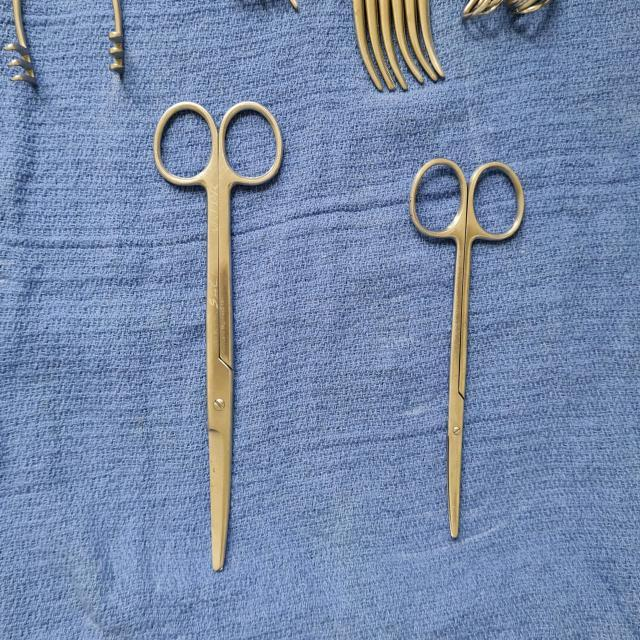Hemostat: (350, 0, 383, 94), (377, 0, 410, 93), (364, 0, 396, 93), (403, 1, 438, 84), (392, 0, 425, 88), (418, 0, 448, 81)
Mayo_metz: (150, 95, 288, 578), (405, 154, 530, 548)
Weitlaner: (2, 0, 130, 93)
